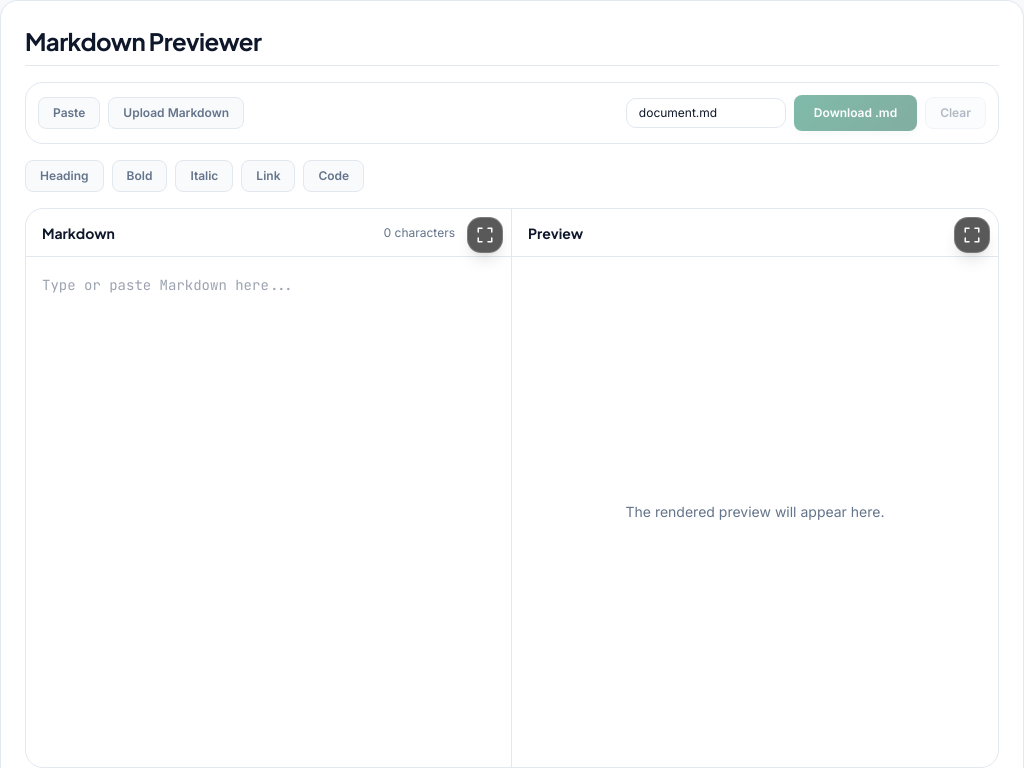
Test: Markdown Previewer › applies simple formatting to the selected editor text
This screenshot has width=1024, height=768.
Click the button "Paste": (69, 113) [38, 97, 100, 129]
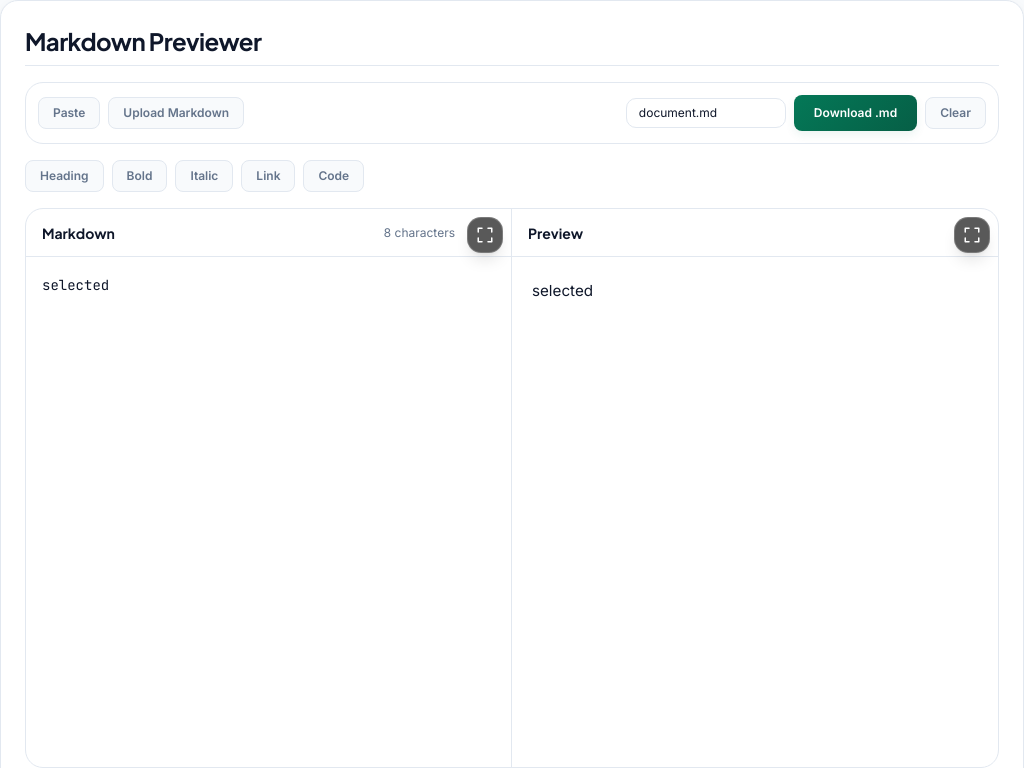
Click the button "Bold": (139, 176) [112, 160, 167, 192]
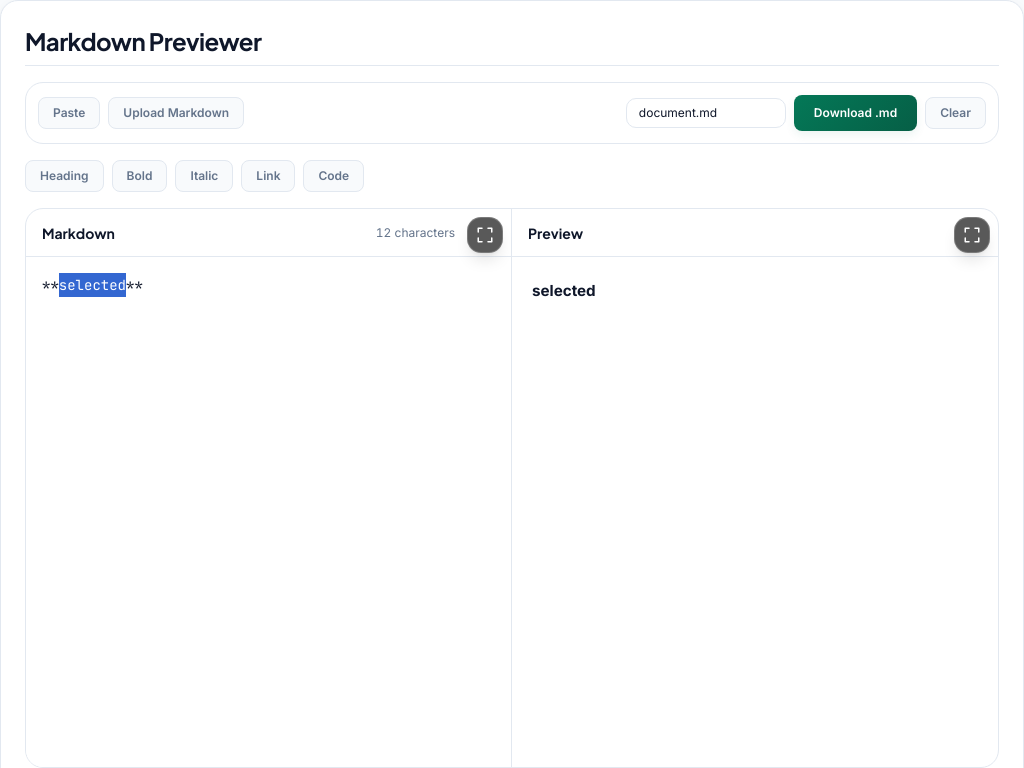
Expected: the text "selected" is shown, [532, 281, 596, 300]
Expected: the text box named "Markdown editor" holds "**selected**", [26, 257, 511, 767]
